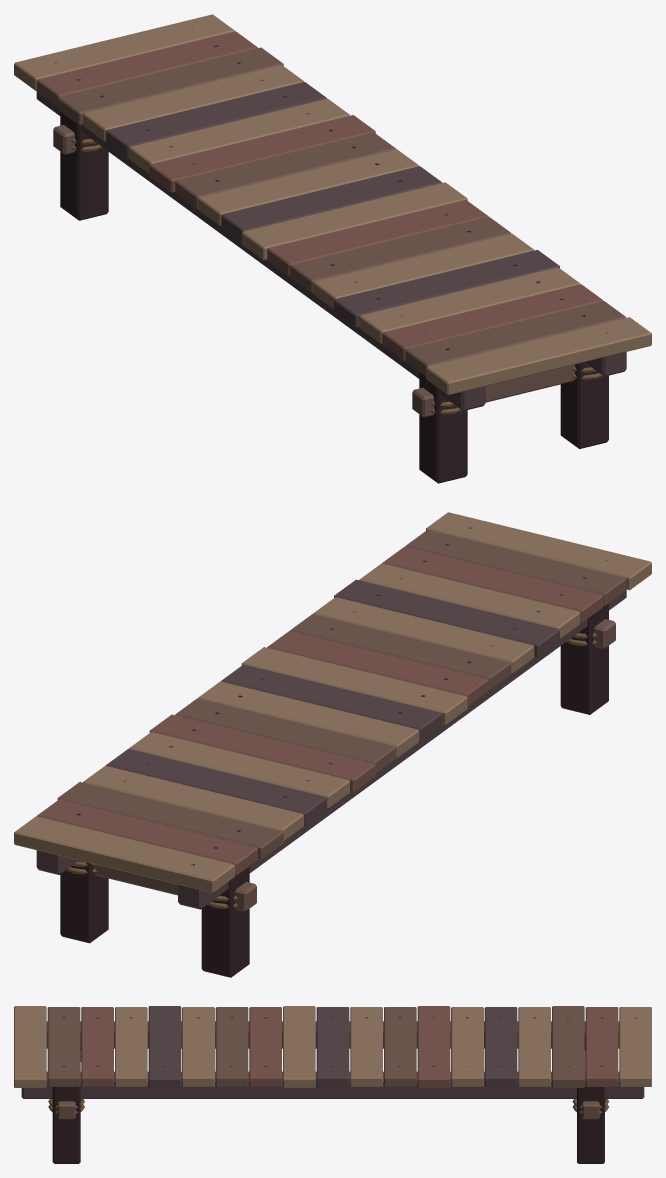
File: jetty.glb
3 views of the same model, one above another, from view 1: azimuth 30°, elevation 25°; view 2: azimuth 150°, elevation 25°; view 3: azimuth 270°, elevation 25° (orthographic). The views are drawn at different scales.
Visible parts, largest first — view 1: jetty; view 2: jetty; view 3: jetty.
Part boxes in pixels (left/top/right/bottom): jetty: left=14, top=14, right=651, bottom=483; jetty: left=14, top=512, right=651, bottom=977; jetty: left=14, top=1006, right=651, bottom=1163.
Size of the model in its own units: 1.02 by 0.6 by 3.79.
